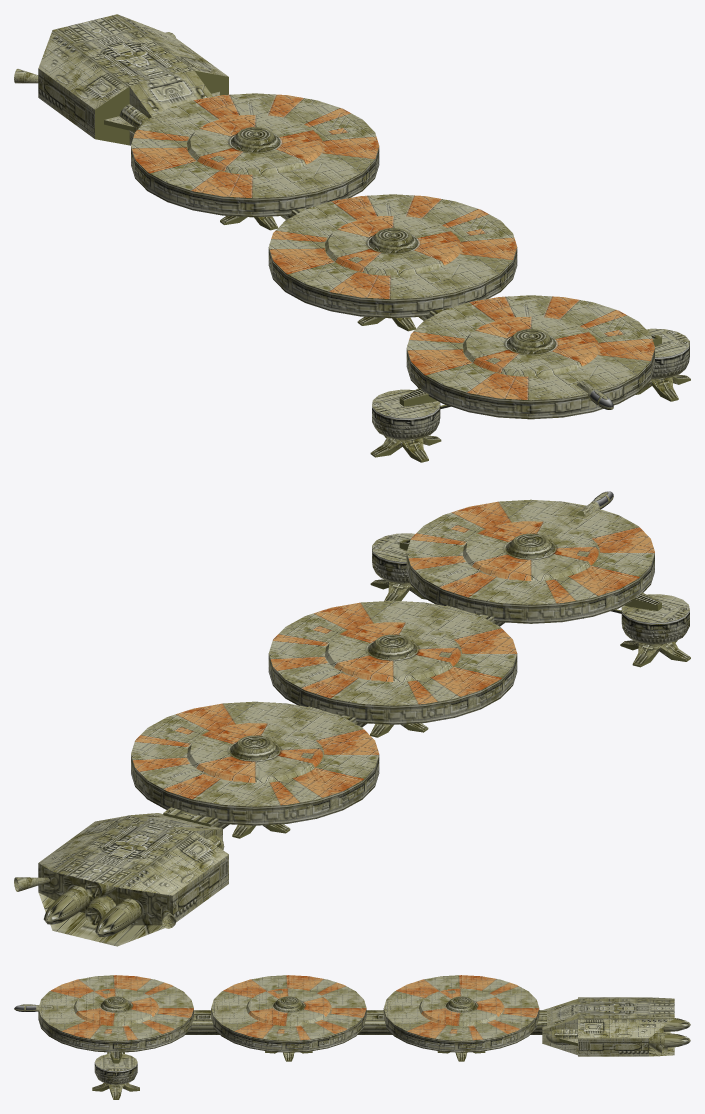
File: Mining Vessel.fbx
The picture shows the model from 3 angles, top to bottom: view 1: azimuth 30°, elevation 25°; view 2: azimuth 150°, elevation 25°; view 3: azimuth 270°, elevation 25°; orthographic projection. The views are drawn at different scales.
Visible parts, largest first — view 1: colminr1co_1_1; view 2: colminr1co_1_1; view 3: colminr1co_1_1.
Part boxes in pixels (x1,y1,x2,y2): colminr1co_1_1: [14, 14, 690, 462]; colminr1co_1_1: [14, 491, 690, 946]; colminr1co_1_1: [14, 975, 690, 1099].
Bounding box in the file's own units: 263 × 780 × 64.57.
2 materials, 1 textured.
